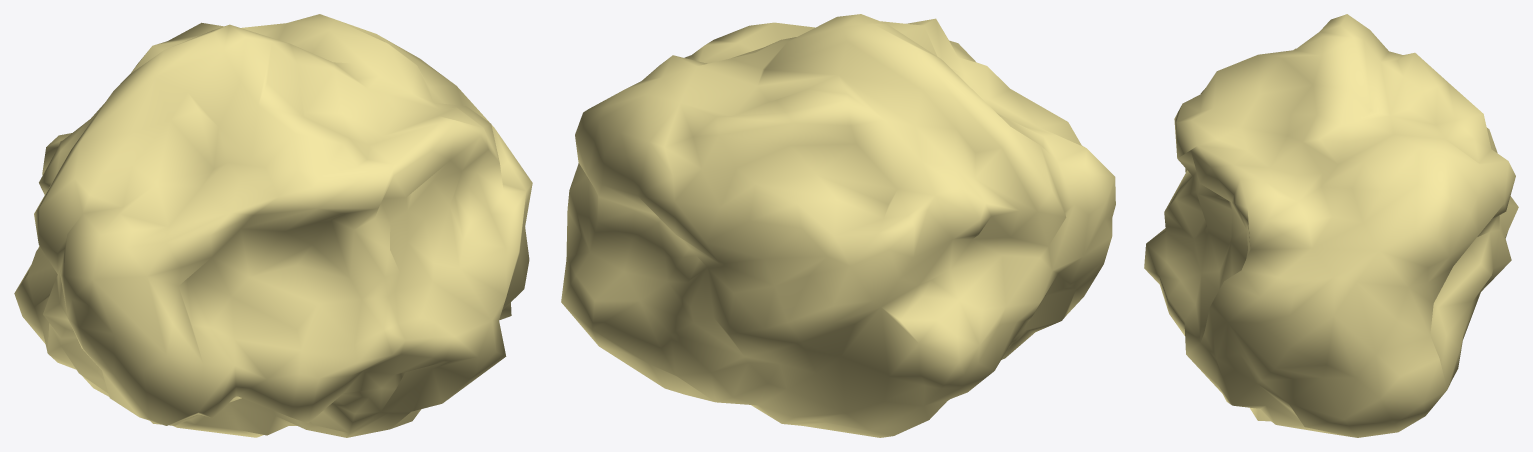
The model's file is Asteroid.fbx.
The picture shows the model from 3 angles, left to right: view 1: azimuth 30°, elevation 25°; view 2: azimuth 150°, elevation 25°; view 3: azimuth 270°, elevation 25°; orthographic projection. The views are drawn at different scales.
Visible parts, largest first — view 1: Group976.001; view 2: Group976.001; view 3: Group976.001.
Part boxes in pixels (box(x1,y1,x2,y2)): Group976.001: box(14, 14, 532, 437); Group976.001: box(561, 14, 1115, 437); Group976.001: box(1144, 14, 1518, 437).
Size of the model in its own units: 6530 by 5336 by 5058.
